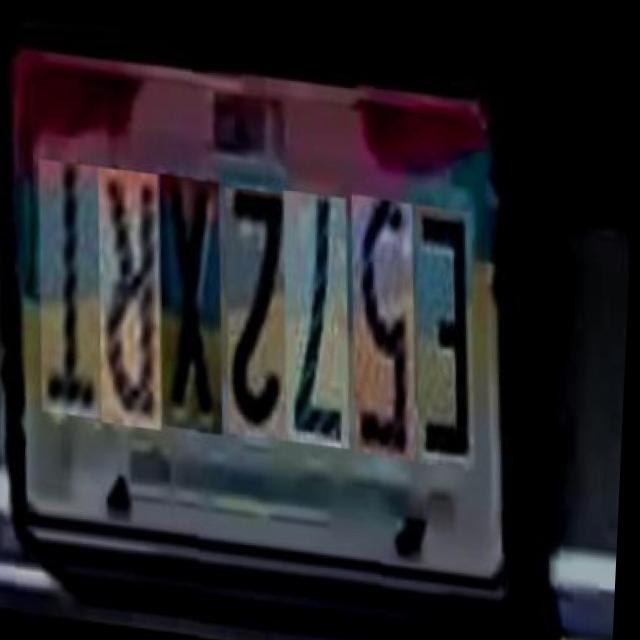2: (224, 195, 302, 447)
5: (349, 199, 432, 463)
7: (281, 196, 365, 453)
e: (413, 206, 491, 469)
r: (97, 180, 176, 442)
t: (36, 174, 116, 433)
x: (158, 185, 237, 444)
